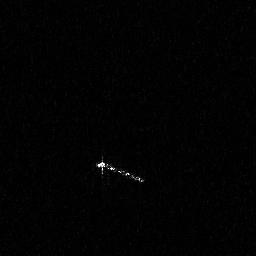ship: (93, 154, 147, 187)
